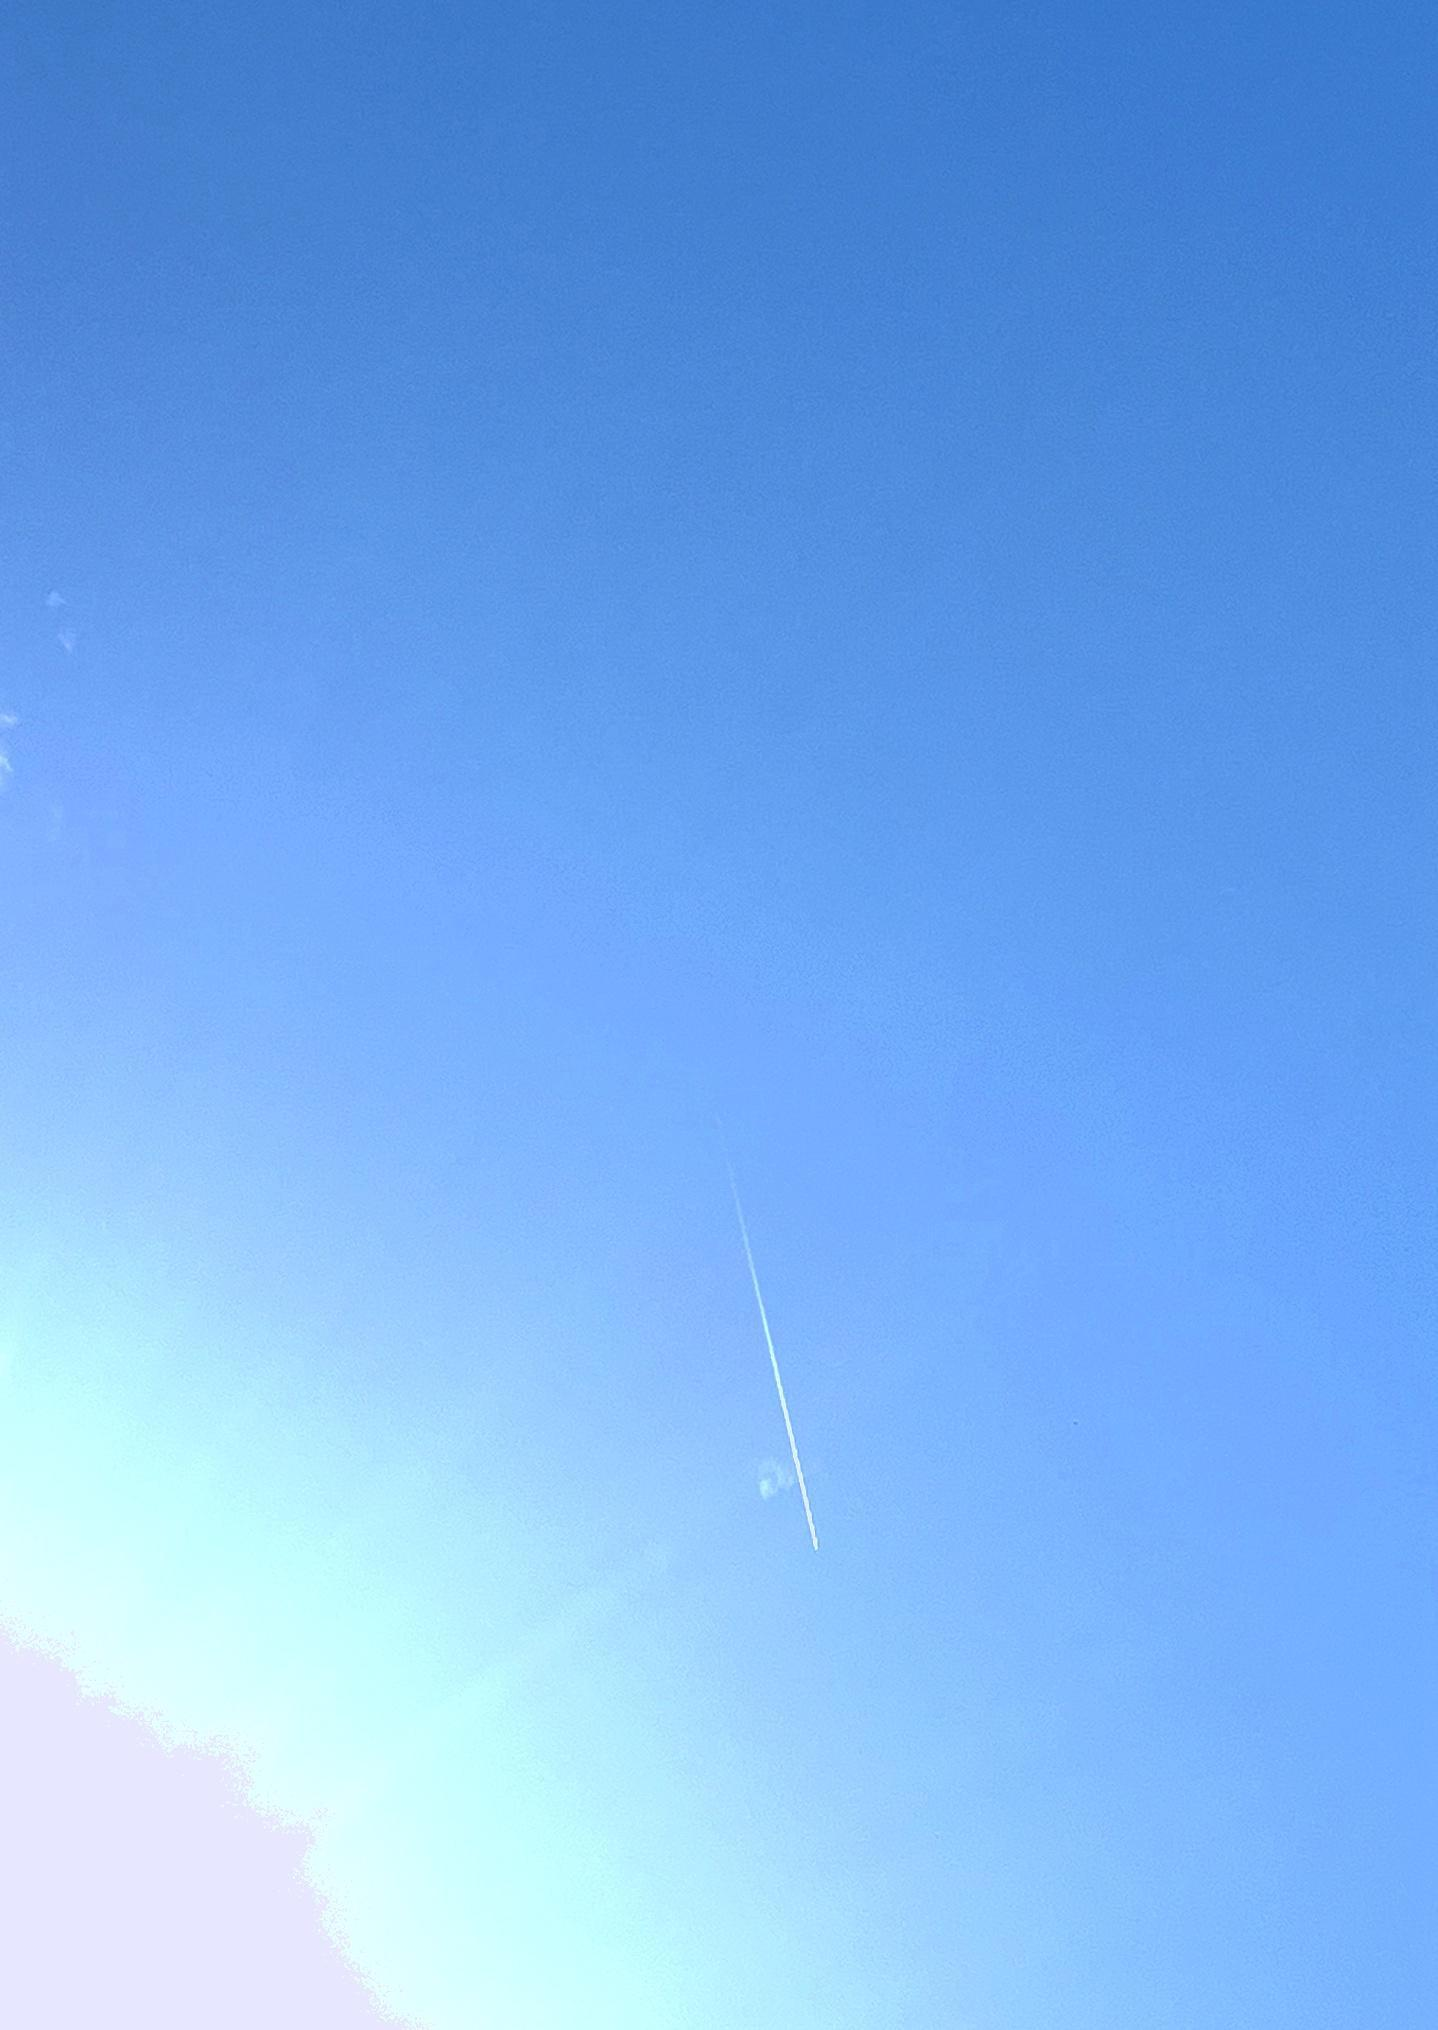Plane: (756, 1402, 847, 1576)
